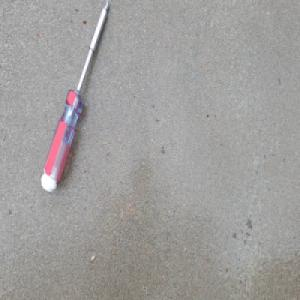Screwdriver: (40, 0, 111, 193)
